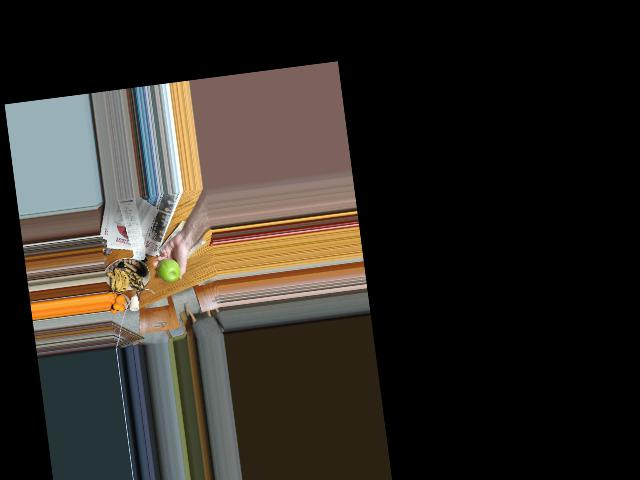apple: (154, 256, 182, 284)
